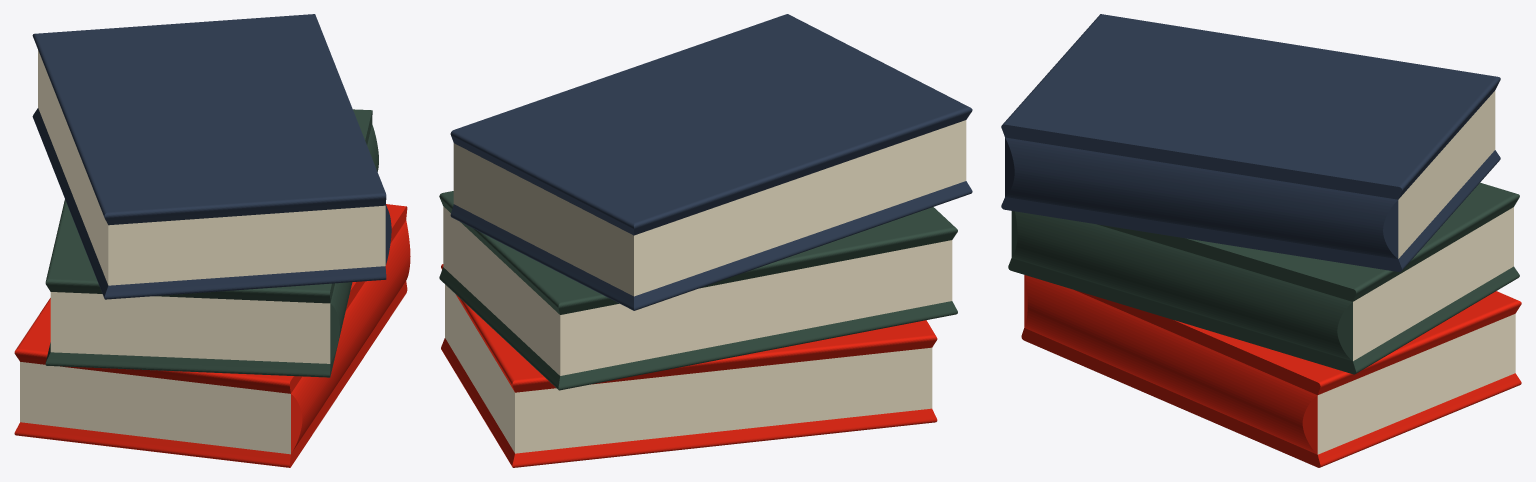
The model's file is stackOfBooks.glb.
3 renders of one model, left to right at view 1: azimuth 30°, elevation 25°; view 2: azimuth 150°, elevation 25°; view 3: azimuth 270°, elevation 25°, orthographic. The views are drawn at different scales.
Parts seen in each view (by area): view 1: Cube.005, Cube, Cube.004; view 2: Cube.005, Cube.004, Cube; view 3: Cube.005, Cube.004, Cube.
Boxes of the visible parts, x1,y1,x2,y2 form: Cube.005: (32, 14, 391, 299); Cube: (14, 204, 410, 467); Cube.004: (45, 109, 378, 377); Cube.005: (450, 14, 972, 310); Cube.004: (439, 191, 957, 390); Cube: (441, 264, 937, 467); Cube.005: (1001, 14, 1500, 271); Cube.004: (1008, 182, 1519, 374); Cube: (1021, 275, 1521, 467).
Size of the model in its own units: 0.4018 by 0.2266 by 0.4159.
